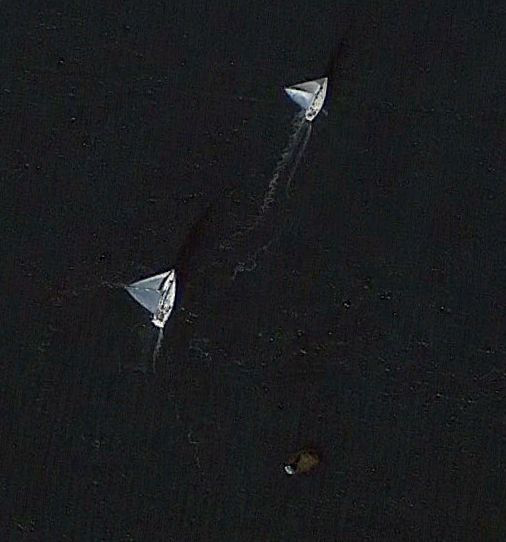boat: (124, 263, 179, 330), (284, 75, 330, 125)
